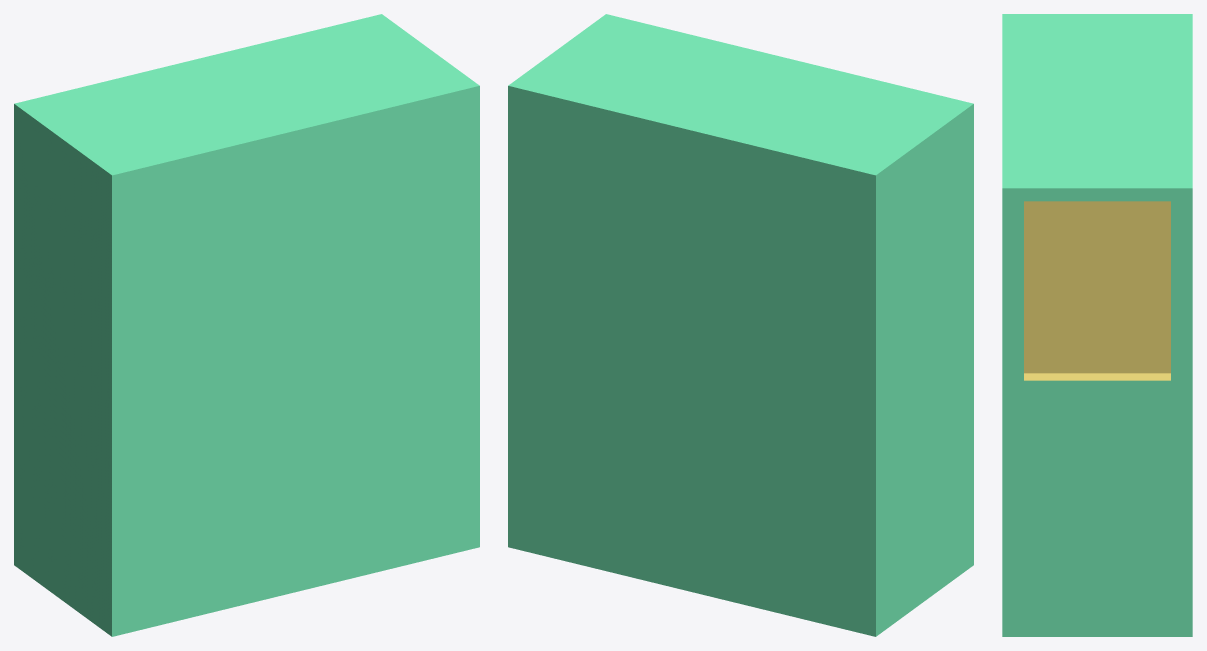
The model's file is Com_Tower.obj.
3 views of the same model, side by side, from view 1: azimuth 30°, elevation 25°; view 2: azimuth 150°, elevation 25°; view 3: azimuth 270°, elevation 25° (orthographic). The views are drawn at different scales.
Parts seen in each view (by area): view 1: Com_tower_Cube.049; view 2: Com_tower_Cube.049; view 3: Com_tower_Cube.049.
Part boxes in pixels (x1,y1,x2,y2): Com_tower_Cube.049: [14, 14, 479, 636]; Com_tower_Cube.049: [508, 14, 973, 636]; Com_tower_Cube.049: [1002, 14, 1192, 636].
Size of the model in its own units: 2 by 2.4 by 0.9234.
